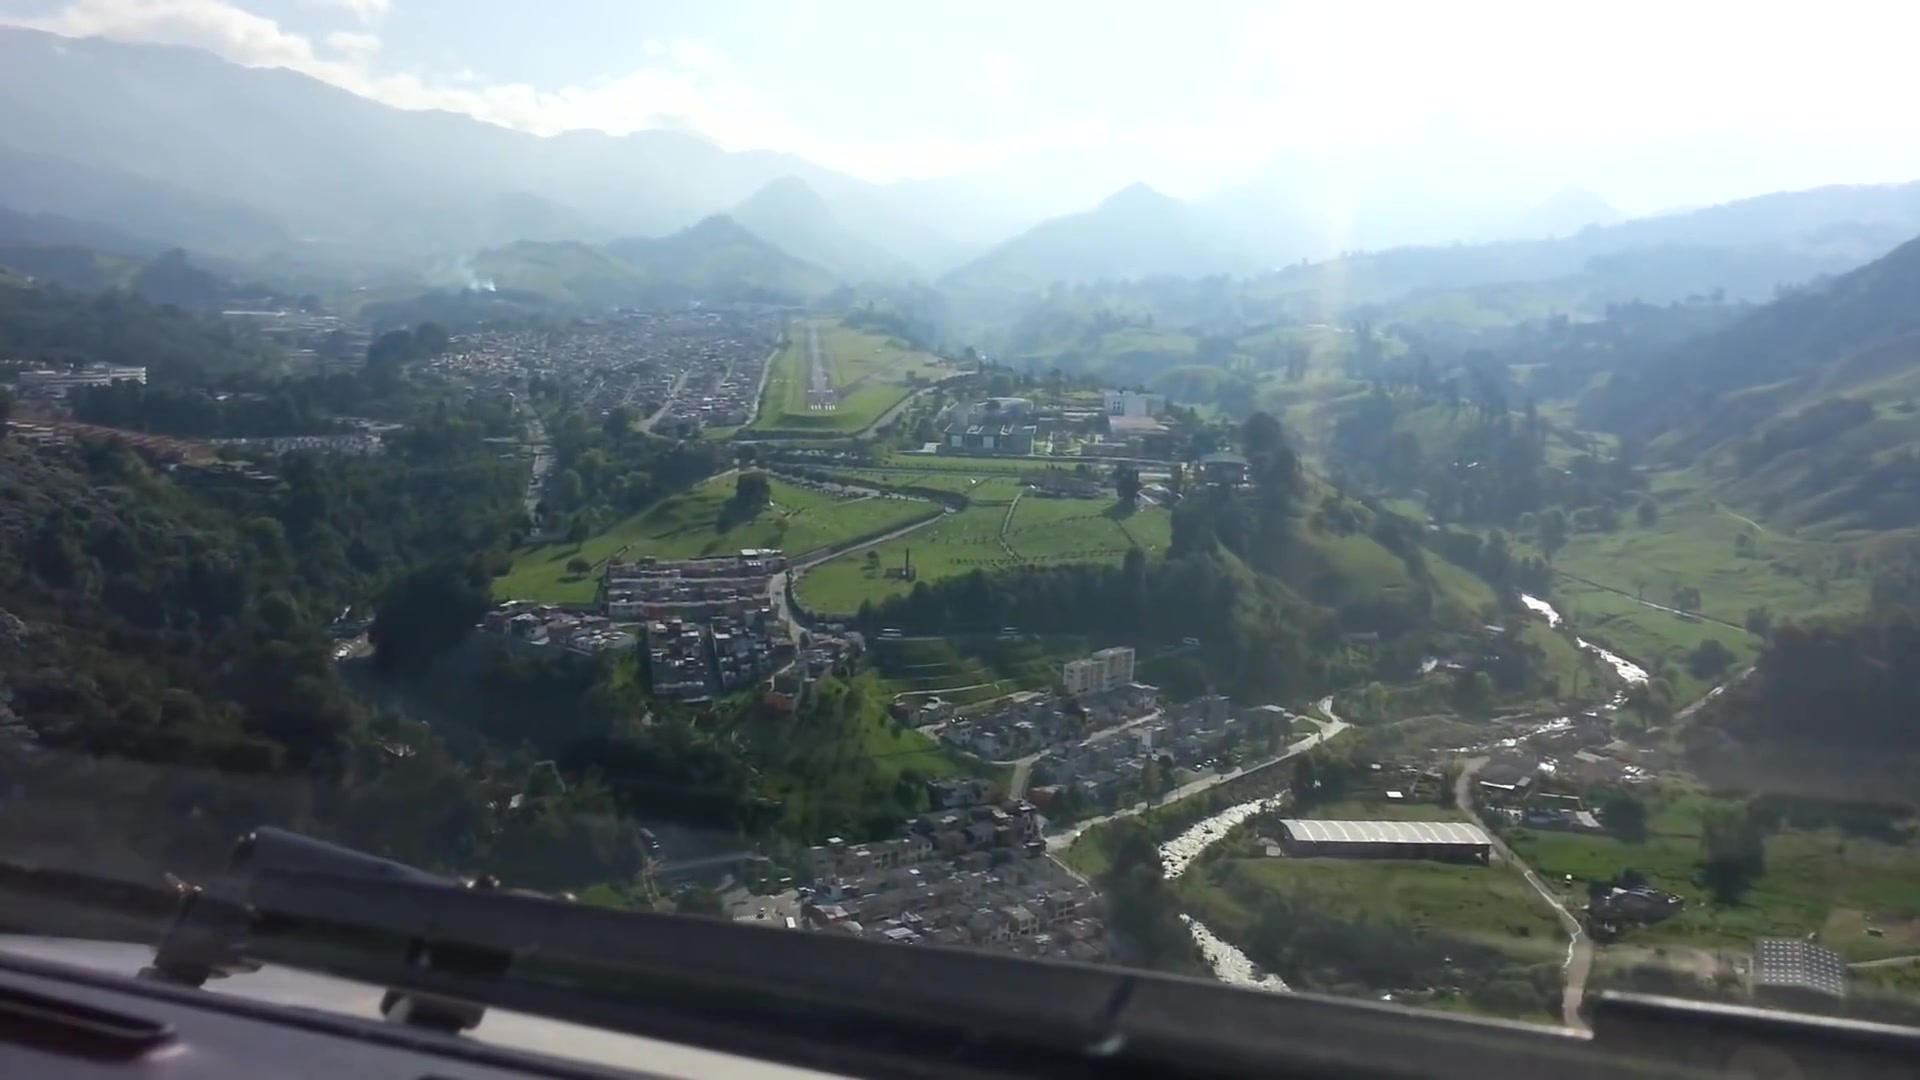runway: (803, 328, 837, 413)
